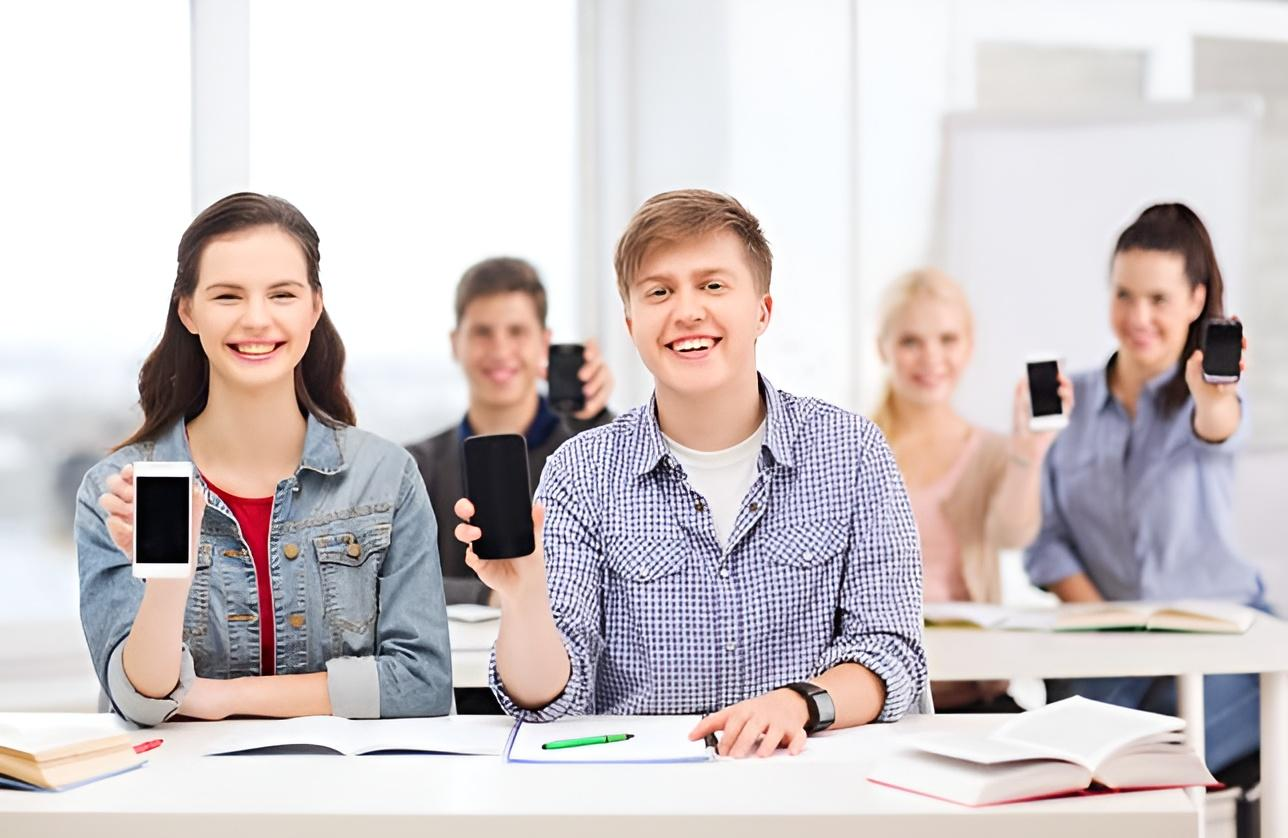phone: (454, 187, 927, 754), (77, 195, 452, 715), (1035, 194, 1250, 609), (878, 271, 1067, 618), (400, 253, 605, 472)
